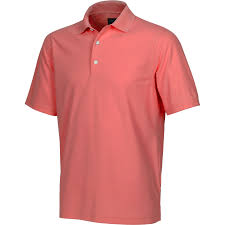S_polo shirt: (18, 1, 217, 221)
